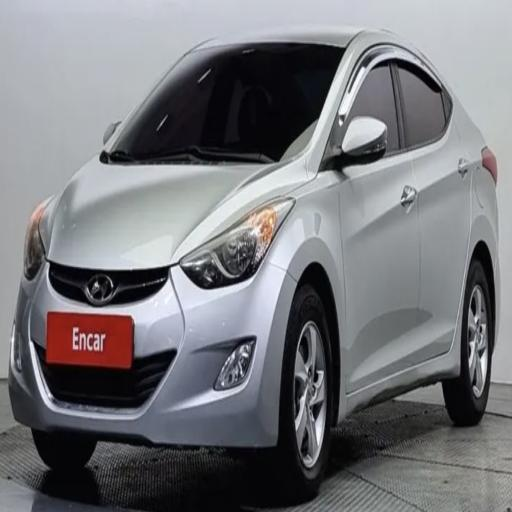normal: (11, 4, 505, 494)
